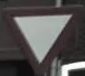Give way: (5, 6, 82, 69)
